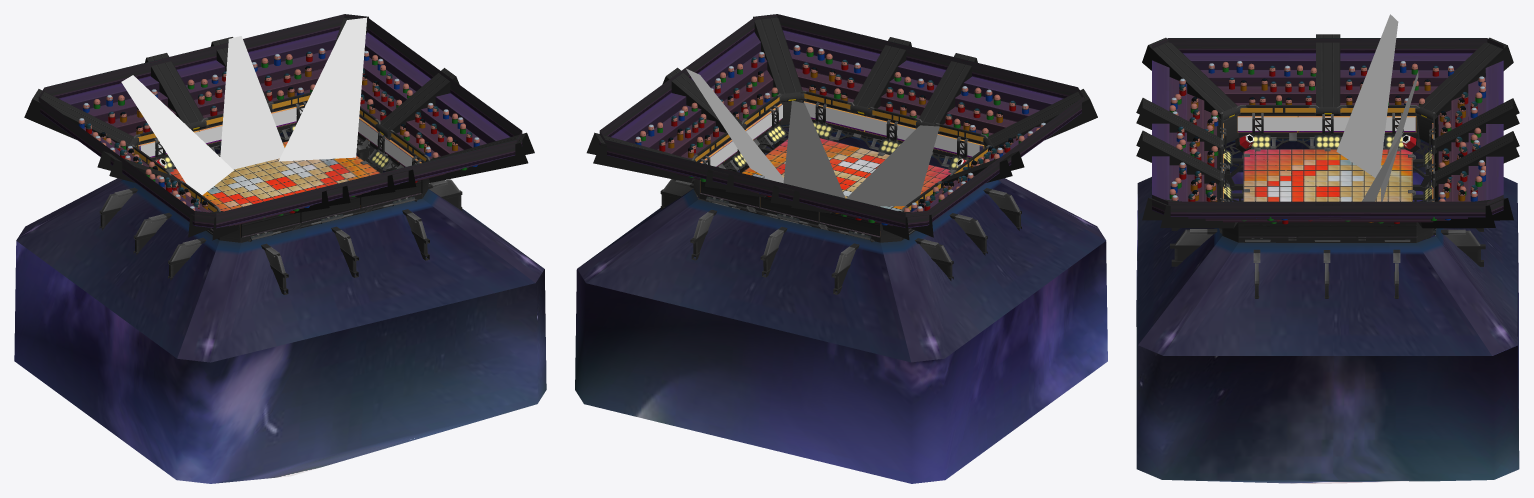
Rendered from enf.fbx.
3 renders of one model, left to right at view 1: azimuth 30°, elevation 25°; view 2: azimuth 150°, elevation 25°; view 3: azimuth 270°, elevation 25°, orthographic. The views are drawn at different scales.
Visible parts, largest first — view 1: polySurface45, pPlane20, polySurface107, pCube1, polySurface108, polySurface110, pCylinder64, pCylinder62, polySurface104, polySurface121, pCylinder65, pPlane17 (+3 smaller); view 2: polySurface45, pPlane20, polySurface108, polySurface107, pCube1, pCylinder63, polySurface111, pPlane18, pCylinder64, polySurface104, polySurface110, polySurface121 (+5 smaller); view 3: polySurface45, polySurface108, pCube1, polySurface107, pPlane20, pCylinder65, pCylinder62, pCylinder63, polySurface110, polySurface111, polySurface104, pPlane17 (+5 smaller).
Boxes of the visible parts, x1,y1,x2,y2 form: polySurface45: [14, 14, 546, 483]; pPlane20: [121, 17, 366, 195]; polySurface107: [24, 14, 459, 149]; pCube1: [170, 141, 380, 211]; polySurface108: [97, 132, 534, 240]; polySurface110: [248, 196, 429, 294]; pCylinder64: [360, 50, 479, 158]; pCylinder62: [83, 48, 325, 134]; polySurface104: [99, 187, 212, 280]; polySurface121: [356, 132, 462, 210]; pCylinder65: [78, 118, 207, 210]; pPlane17: [141, 108, 304, 156]; polySurface45: [575, 14, 1107, 483]; pPlane20: [686, 68, 939, 206]; polySurface108: [753, 16, 1097, 187]; polySurface107: [586, 67, 933, 239]; pCube1: [742, 138, 950, 234]; pCylinder63: [793, 45, 1028, 136]; polySurface111: [690, 196, 874, 294]; pPlane18: [702, 102, 979, 166]; pCylinder64: [635, 52, 777, 157]; polySurface104: [909, 188, 1021, 280]; polySurface110: [781, 102, 968, 169]; polySurface121: [660, 105, 786, 209]; polySurface45: [1136, 38, 1519, 483]; polySurface108: [1136, 34, 1340, 228]; pCube1: [1243, 149, 1412, 201]; polySurface107: [1316, 37, 1519, 228]; pPlane20: [1336, 14, 1418, 201]; pCylinder65: [1208, 61, 1453, 104]; pCylinder62: [1438, 76, 1485, 201]; pCylinder63: [1169, 78, 1218, 201]; polySurface110: [1170, 127, 1245, 266]; polySurface111: [1413, 128, 1485, 266]; polySurface104: [1245, 113, 1410, 149]; pPlane17: [1237, 117, 1415, 130].
Size of the model in its own units: 403 by 416 by 353.
